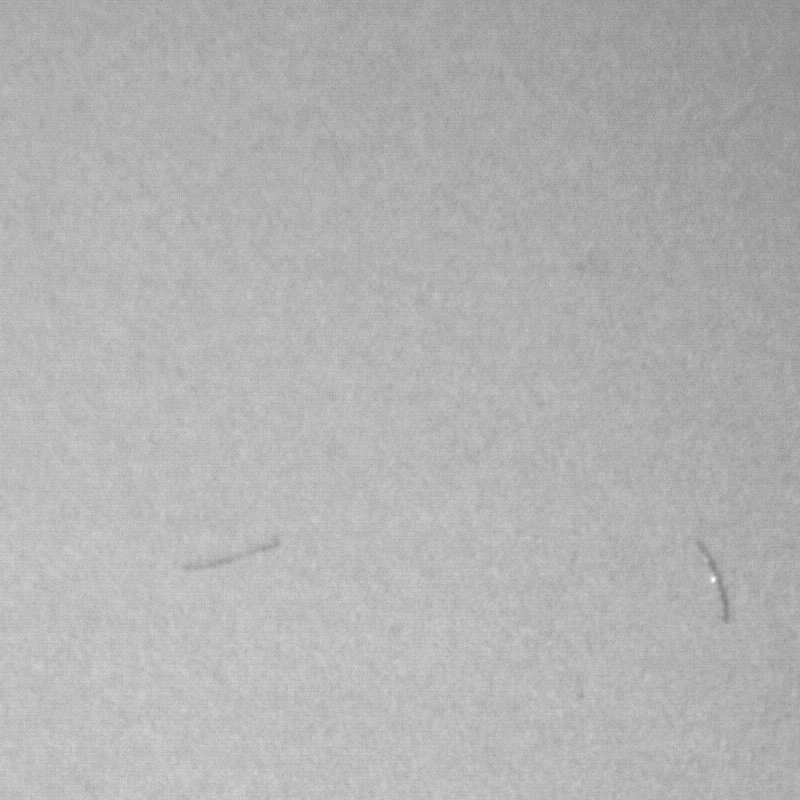defect: (695, 541, 740, 634), (186, 542, 273, 572)
